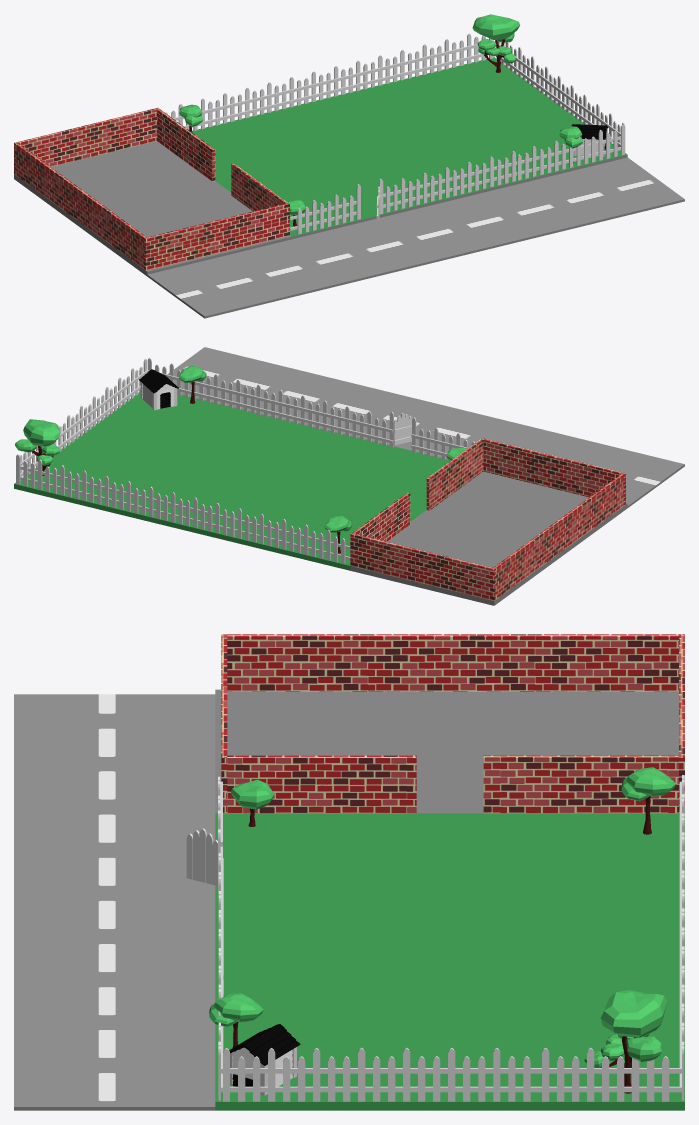
The model's file is Map.fbx.
The picture shows the model from 3 angles, top to bottom: view 1: azimuth 30°, elevation 25°; view 2: azimuth 150°, elevation 25°; view 3: azimuth 270°, elevation 25°; orthographic projection. The views are drawn at different scales.
Visible parts, largest first — view 1: Ground, FrontWall, RightWall, BackWall, LeftWall1, LeftWall2, leaves_geo6; view 2: Ground, BackWall, RightWall, FrontWall, LeftWall2, LeftWall1, leaves_geo6; view 3: Ground, RightWall, LeftWall2, LeftWall1, leaves_geo6, leavesBig_geo (×2), FrontWall, leaves_geo, BackWall, leaves_geo3.
Boxes of the visible parts, bbox=[...] form: Ground: bbox=[14, 57, 684, 318]; FrontWall: bbox=[144, 203, 289, 270]; RightWall: bbox=[15, 143, 146, 268]; BackWall: bbox=[14, 108, 159, 174]; LeftWall1: bbox=[157, 109, 215, 181]; LeftWall2: bbox=[231, 163, 287, 211]; leaves_geo6: bbox=[472, 14, 519, 39]; Ground: bbox=[14, 347, 684, 605]; BackWall: bbox=[350, 533, 495, 600]; RightWall: bbox=[493, 474, 624, 599]; FrontWall: bbox=[481, 438, 625, 505]; LeftWall2: bbox=[426, 439, 483, 510]; LeftWall1: bbox=[352, 492, 410, 541]; leaves_geo6: bbox=[23, 419, 59, 446]; Ground: bbox=[14, 689, 684, 1110]; RightWall: bbox=[227, 634, 678, 691]; LeftWall2: bbox=[227, 755, 416, 813]; LeftWall1: bbox=[483, 755, 678, 813]; leaves_geo6: bbox=[600, 990, 667, 1037]; leavesBig_geo (×2): bbox=[214, 767, 675, 1022]; FrontWall: bbox=[221, 634, 227, 813]; leaves_geo: bbox=[231, 779, 274, 809]; BackWall: bbox=[679, 634, 684, 813]; leaves_geo3: bbox=[626, 1036, 661, 1061].
Size of the model in its own units: 16.27 by 1.81 by 11.
